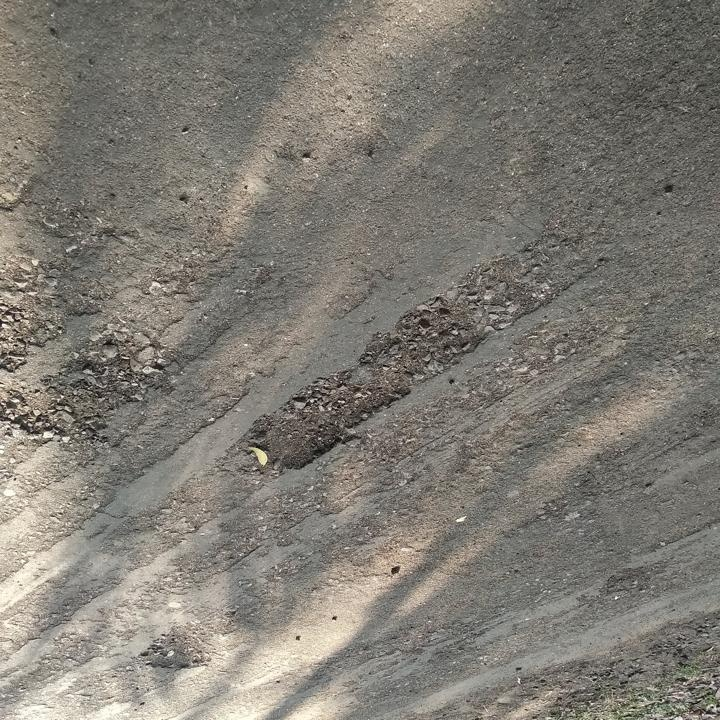pothole: (227, 294, 486, 478), (0, 325, 174, 448), (0, 300, 68, 376), (134, 619, 215, 677)
